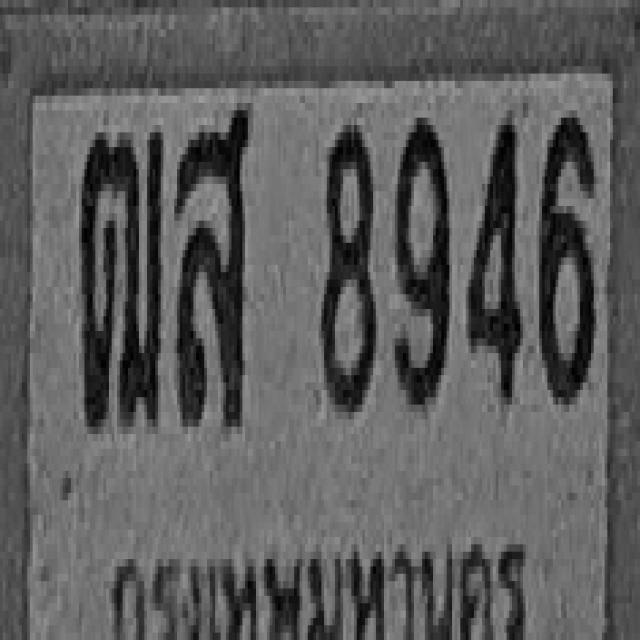27ThorPhuThao: (79, 125, 163, 427)
4: (466, 114, 520, 401)
49SorSuea: (176, 103, 249, 427)
6: (536, 114, 594, 401)
8: (318, 118, 376, 412)
9: (392, 114, 450, 408)
